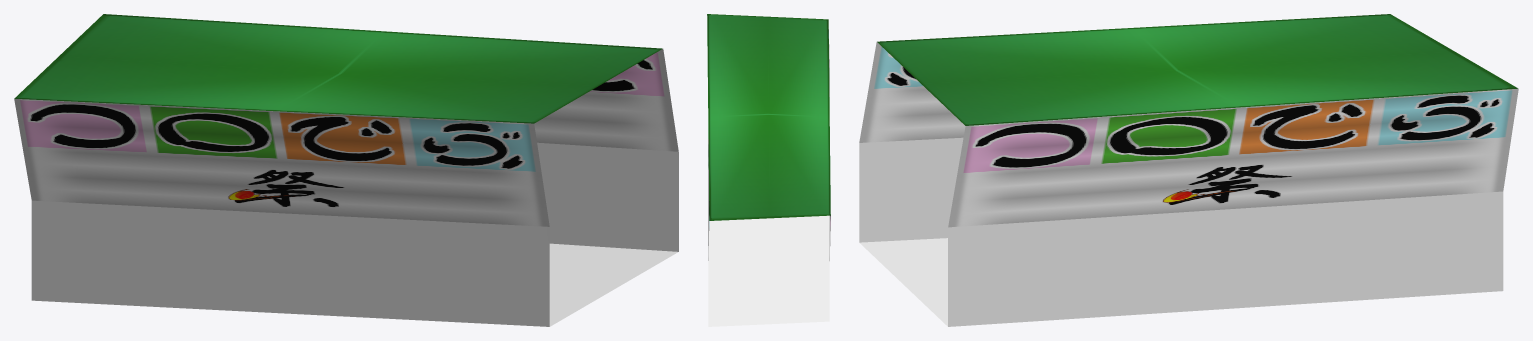
File: CourseWinter_Wall_R_15_3.fbx
The picture shows the model from 3 angles, left to right: view 1: azimuth 30°, elevation 25°; view 2: azimuth 150°, elevation 25°; view 3: azimuth 270°, elevation 25°; orthographic projection. The views are drawn at different scales.
Visible parts, largest first — view 1: polySurface594; view 2: polySurface594; view 3: polySurface594.
Part boxes in pixels (x1,y1,x2,y2): polySurface594: (14,14,678,326); polySurface594: (707,14,830,326); polySurface594: (859,14,1518,326).
Size of the model in its own units: 4.63 by 2.98 by 6.
Materials: 1 (1 with a texture image).
